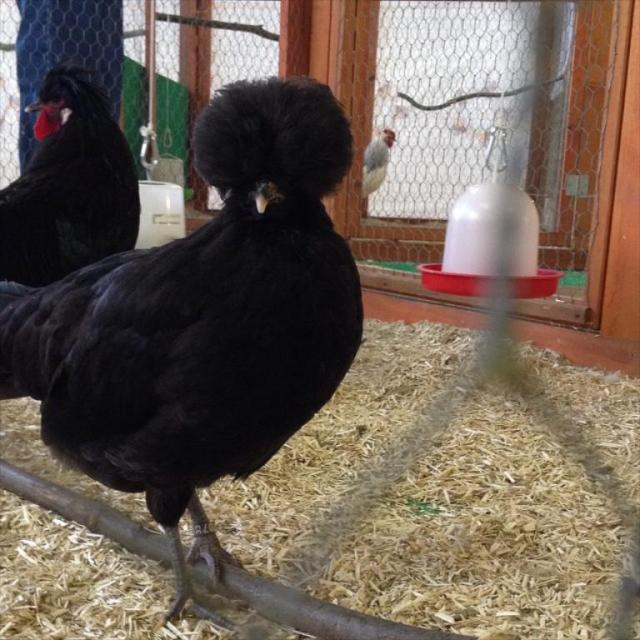Chicken: (37, 79, 371, 640)
